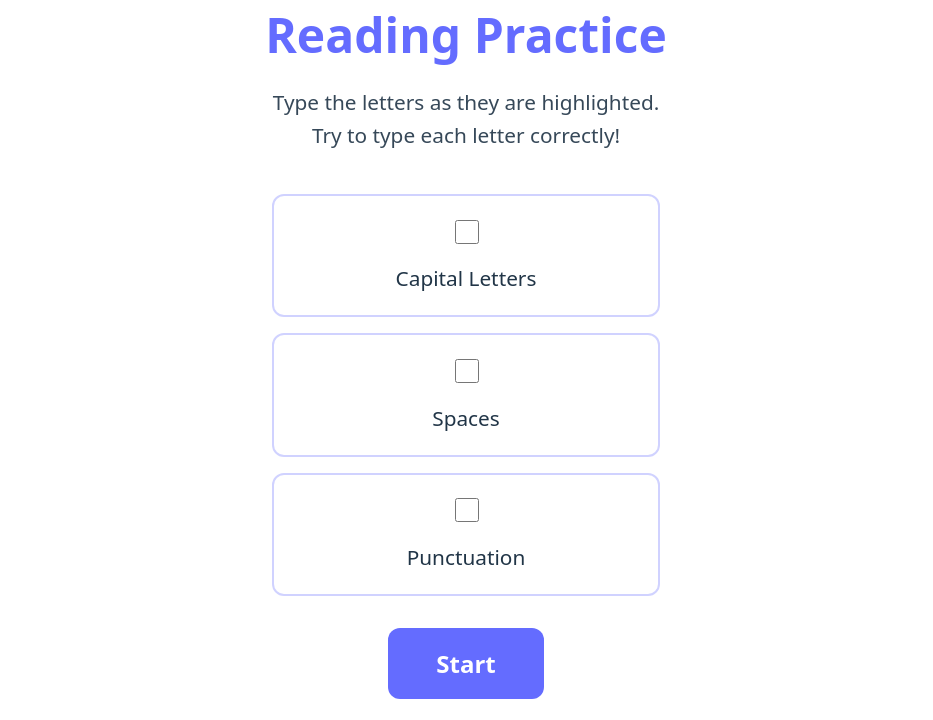
Test case: ReadingMode › Paragraph Rendering › should mark first character as current
This screenshot has width=933, height=720.
Click the button "Start". click: coordinates (466, 664)
box: [388,628,544,699]
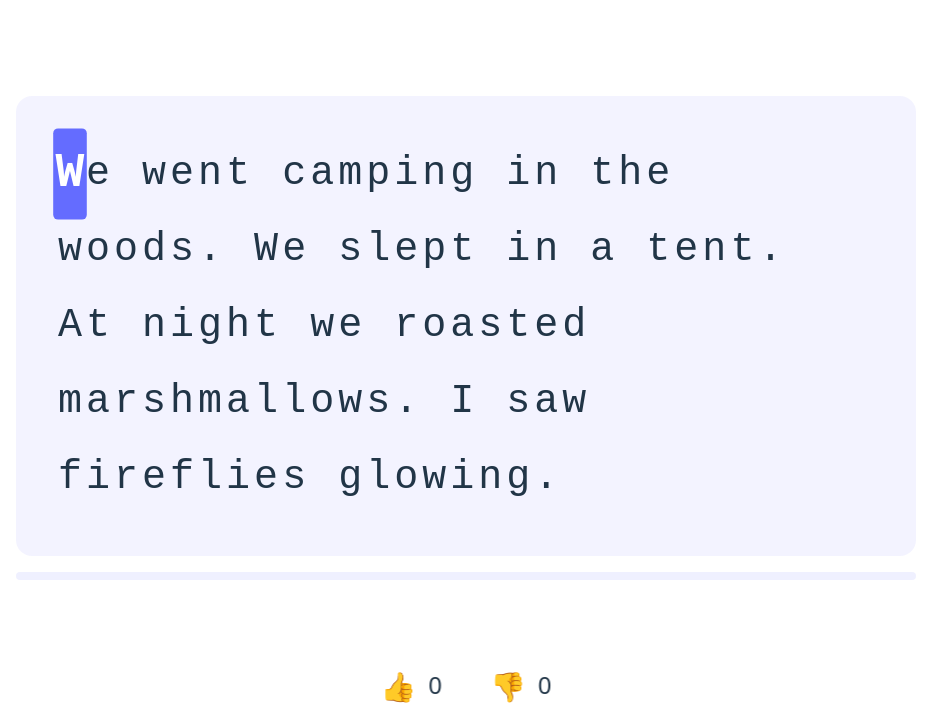
Check: the text with class "current" is shown, box [53,128,87,220]
